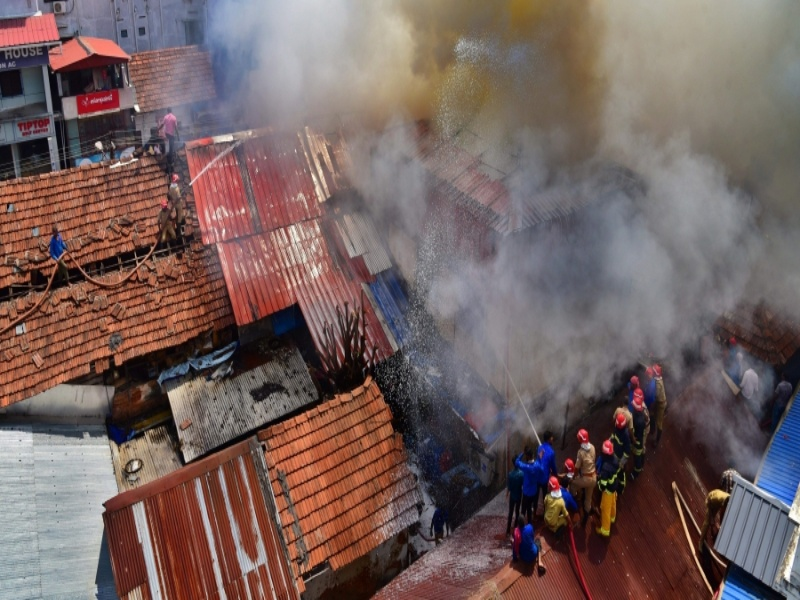smoke: (311, 1, 790, 354)
